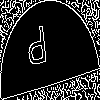P: (25, 24, 50, 76)
